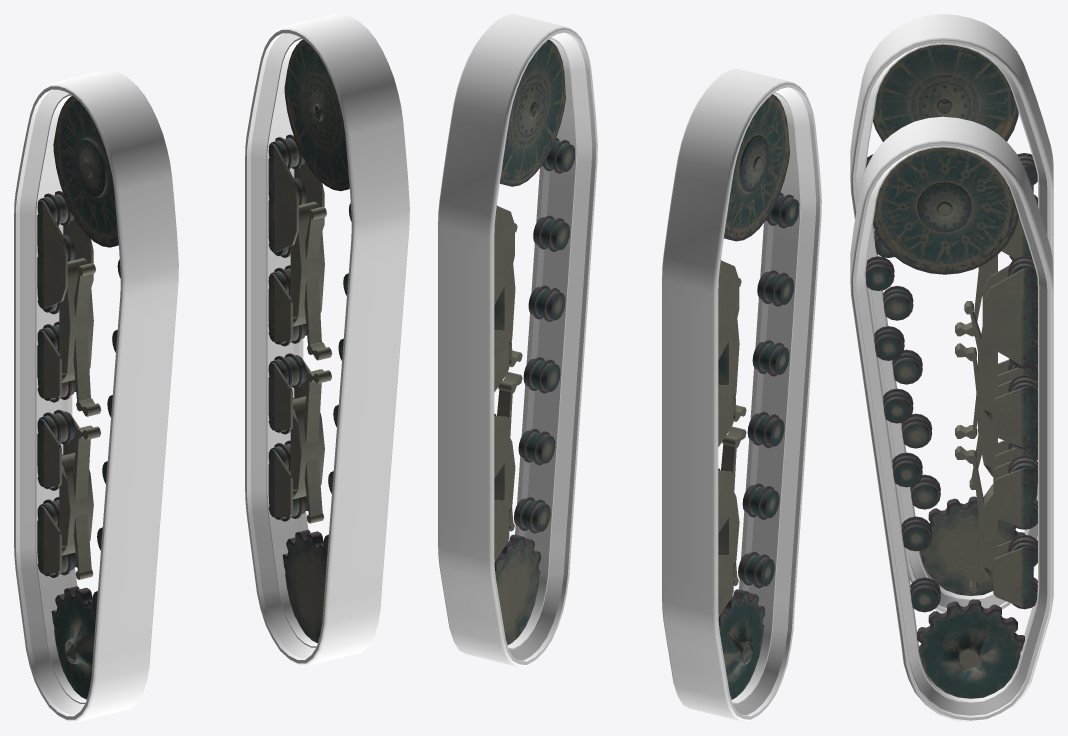
Rendered from Chassis.glb.
The picture shows the model from 3 angles, left to right: view 1: azimuth 30°, elevation 25°; view 2: azimuth 150°, elevation 25°; view 3: azimuth 270°, elevation 25°; orthographic projection. The views are drawn at different scales.
Parts seen in each view (by area): view 1: set_0_group_0, set_1_group_0, set_5_group_0, set_3_group_0, set_2_group_0, set_4_group_0; view 2: set_0_group_0, set_1_group_0, set_5_group_0, set_3_group_0, set_2_group_0, set_4_group_0; view 3: set_5_group_0, set_0_group_0, set_3_group_0, set_1_group_0, set_4_group_0, set_2_group_0.
Part boxes in pixels (x1,y1,x2,y2): set_0_group_0: [245, 14, 409, 665]; set_1_group_0: [14, 70, 178, 721]; set_5_group_0: [268, 39, 351, 642]; set_3_group_0: [37, 95, 120, 699]; set_2_group_0: [37, 413, 79, 573]; set_4_group_0: [268, 356, 310, 517]; set_0_group_0: [438, 14, 597, 667]; set_1_group_0: [662, 68, 821, 721]; set_5_group_0: [494, 39, 574, 644]; set_3_group_0: [718, 94, 799, 699]; set_2_group_0: [718, 471, 739, 616]; set_4_group_0: [494, 416, 509, 561]; set_5_group_0: [865, 147, 1037, 698]; set_0_group_0: [850, 116, 1053, 721]; set_3_group_0: [866, 44, 1037, 595]; set_1_group_0: [850, 14, 1053, 613]; set_4_group_0: [978, 461, 1033, 608]; set_2_group_0: [993, 359, 1033, 469].
Size of the model in its own units: 1.74 by 3.69 by 1.17.
Materials: 6 (4 with a texture image).
